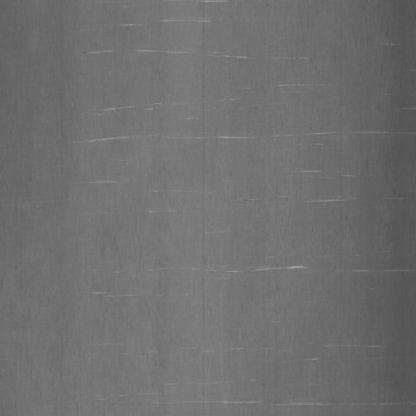waist_folding: (14, 24, 387, 388)
